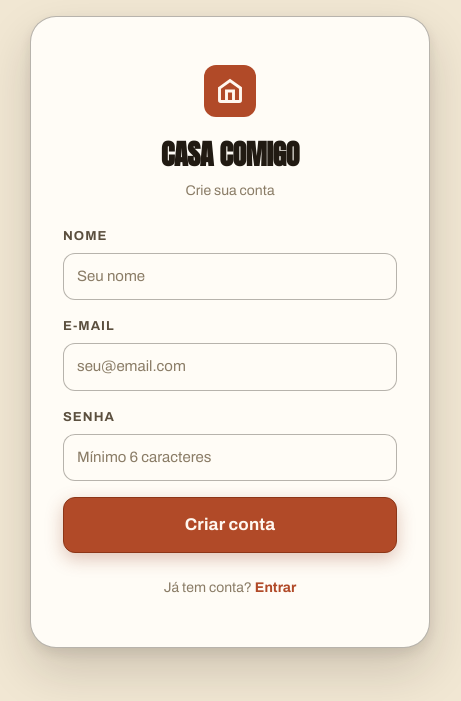
Register page › disables submit button while loading
The width and height of the screenshot is (461, 701).
Type "Bob" into the field labelled "Nome" at x=230, y=277, box top-left (63, 253), bottom-right (397, 300)
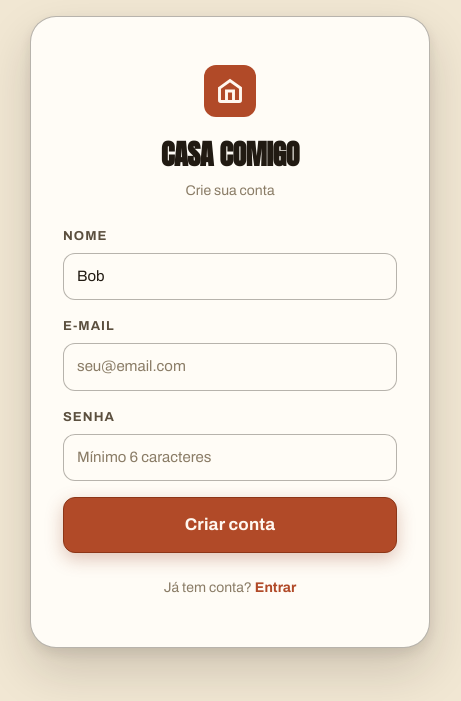
Type "b@b.com" into the field labelled "E-mail" at x=230, y=367, box top-left (63, 344), bottom-right (397, 391)
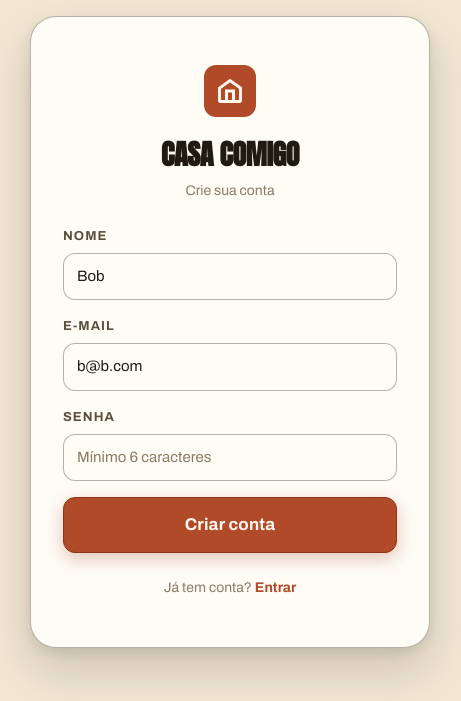
Type "senha123" into the password field labelled "Senha" at x=230, y=458, box top-left (63, 434), bottom-right (397, 481)
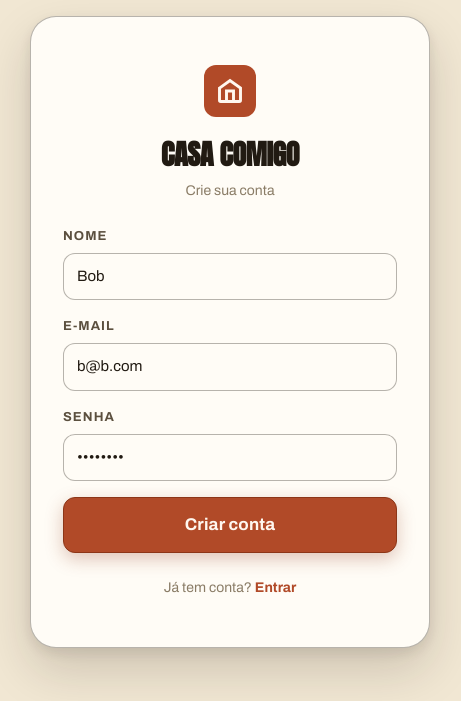
Click the button "Criar conta" at x=230, y=525, box top-left (63, 497), bottom-right (397, 553)
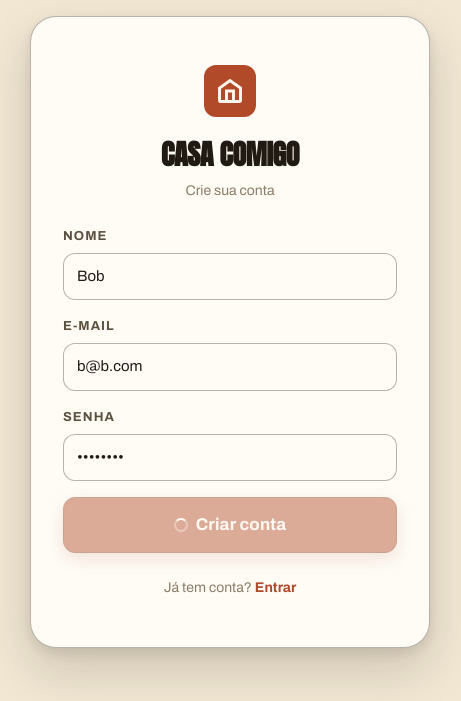
Check: the button "Criar conta" is disabled, box top-left (63, 497), bottom-right (397, 553)
